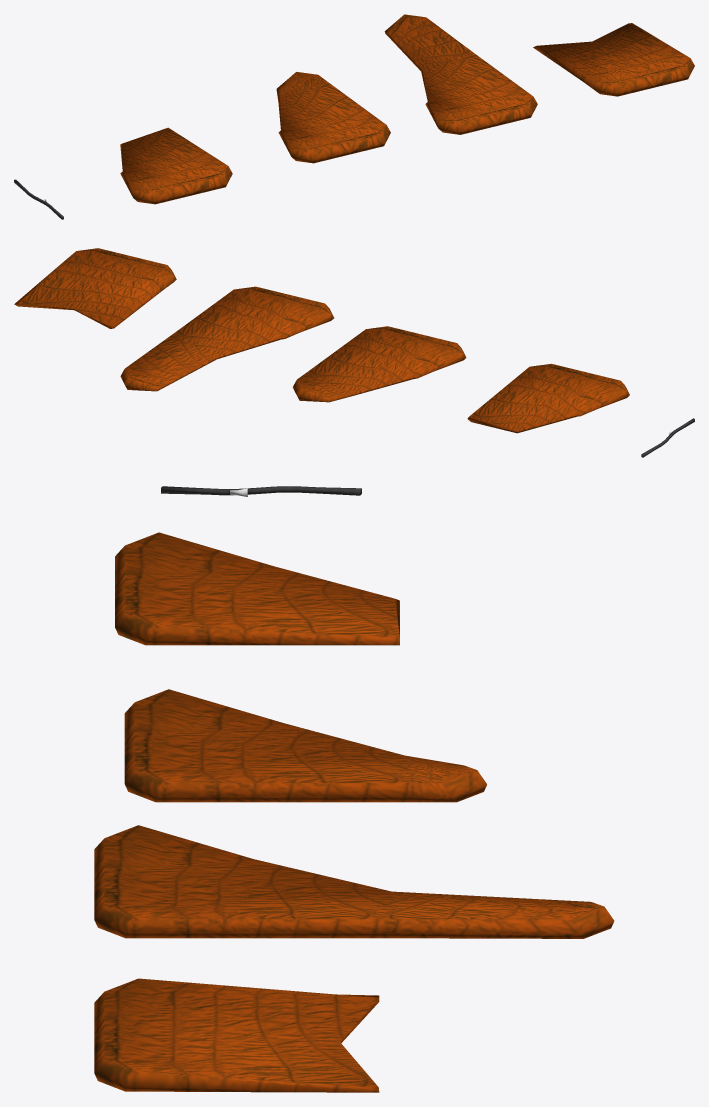
File: DamagedSleepingBags_Orange.obj
3 renders of one model, top to bottom at view 1: azimuth 30°, elevation 25°; view 2: azimuth 150°, elevation 25°; view 3: azimuth 270°, elevation 25°, orthographic. The views are drawn at different scales.
Visible parts, largest first — view 1: Cube.033_Material.018, Cube.031_Material.018, Cube.034_Material.018, Cube.028_Material.018; view 2: Cube.033_Material.018, Cube.031_Material.018, Cube.034_Material.018, Cube.028_Material.018; view 3: Cube.033_Material.018, Cube.034_Material.018, Cube.031_Material.018, Cube.028_Material.018, Plane.004_Material.017.
Part boxes in pixels (x1,y1,x2,y2): Cube.033_Material.018: (384,14,537,134); Cube.031_Material.018: (276,72,390,163); Cube.034_Material.018: (533,23,694,96); Cube.028_Material.018: (120,127,232,204); Cube.033_Material.018: (120,286,334,391); Cube.031_Material.018: (292,326,466,402); Cube.034_Material.018: (14,248,176,328); Cube.028_Material.018: (467,363,629,433); Cube.033_Material.018: (94,825,614,938); Cube.034_Material.018: (94,978,379,1092); Cube.031_Material.018: (124,689,486,802); Cube.028_Material.018: (115,532,399,645); Plane.004_Material.017: (161,486,361,495).
Bounding box in the file's own units: 4.91 × 0.1058 × 1.77.
